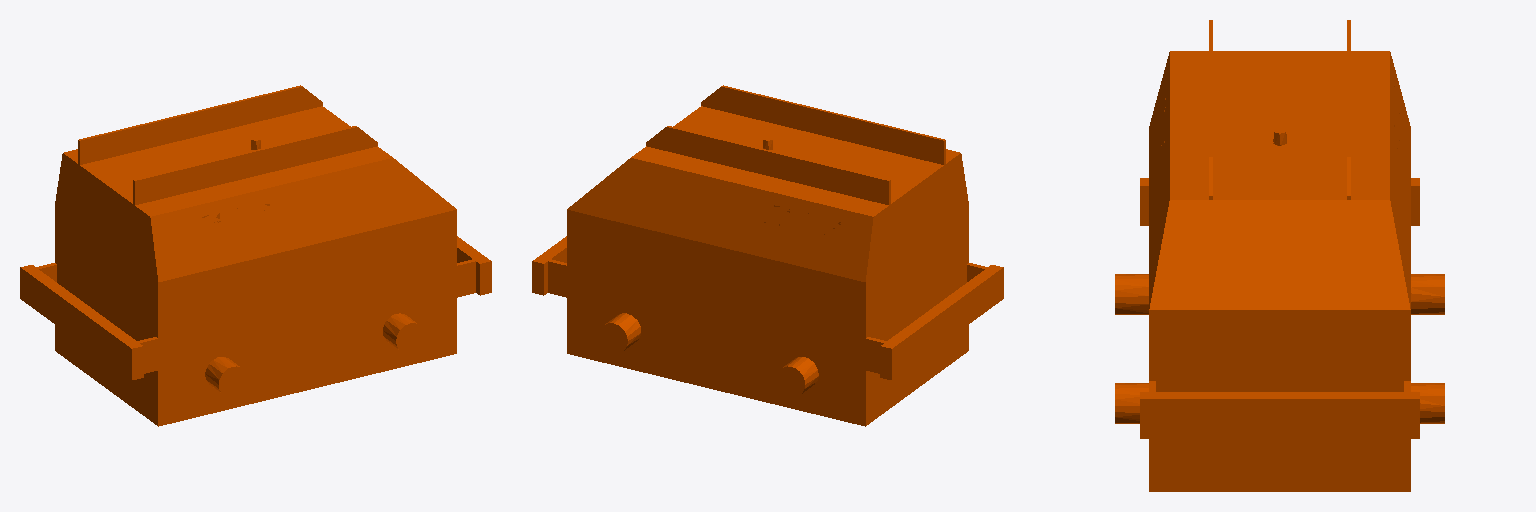
URDF robot description (atrvjr):
<?xml version="1.0" ?>
<!-- =================================================================================== -->
<!-- |    This document was autogenerated by xacro from urdf/atrvjr.urdf.xacro         | -->
<!-- |    EDITING THIS FILE BY HAND IS NOT RECOMMENDED                                 | -->
<!-- =================================================================================== -->
<robot name="atrvjr">
  <!-- aka distance between axis -->
  <link name="left_front_wheel_link">
    <inertial>
      <mass value="1"/>
      <inertia ixx="1.0" ixy="0.0" ixz="0.0" iyy="1.0" iyz="0.0" izz="1.0"/>
    </inertial>
    <collision>
      <origin rpy="0 0 0" xyz="0 0 0.0475"/>
      <geometry>
        <cylinder length="0.095" radius="0.155"/>
      </geometry>
    </collision>
  </link>
  <!-- base_link -> ${prefix}_wheel_link -->
  <joint name="left_front_wheel_joint" type="fixed">
    <parent link="center_link"/>
    <child link="left_front_wheel_link"/>
    <origin rpy="-1.570795 0 0" xyz="0.19 0.2125 0"/>
  </joint>
  <link name="left_rear_wheel_link">
    <inertial>
      <mass value="1"/>
      <inertia ixx="1.0" ixy="0.0" ixz="0.0" iyy="1.0" iyz="0.0" izz="1.0"/>
    </inertial>
    <collision>
      <origin rpy="0 0 0" xyz="0 0 0.0475"/>
      <geometry>
        <cylinder length="0.095" radius="0.155"/>
      </geometry>
    </collision>
  </link>
  <!-- base_link -> ${prefix}_wheel_link -->
  <joint name="left_rear_wheel_joint" type="fixed">
    <parent link="center_link"/>
    <child link="left_rear_wheel_link"/>
    <origin rpy="-1.570795 0 0" xyz="-0.19 0.2125 0"/>
  </joint>
  <link name="right_front_wheel_link">
    <inertial>
      <mass value="1"/>
      <inertia ixx="1.0" ixy="0.0" ixz="0.0" iyy="1.0" iyz="0.0" izz="1.0"/>
    </inertial>
    <collision>
      <origin rpy="0 0 0" xyz="0 0 0.0475"/>
      <geometry>
        <cylinder length="0.095" radius="0.155"/>
      </geometry>
    </collision>
  </link>
  <!-- base_link -> ${prefix}_wheel_link -->
  <joint name="right_front_wheel_joint" type="fixed">
    <parent link="center_link"/>
    <child link="right_front_wheel_link"/>
    <origin rpy="1.570795 0 0" xyz="0.19 -0.2125 0"/>
  </joint>
  <link name="right_rear_wheel_link">
    <inertial>
      <mass value="1"/>
      <inertia ixx="1.0" ixy="0.0" ixz="0.0" iyy="1.0" iyz="0.0" izz="1.0"/>
    </inertial>
    <collision>
      <origin rpy="0 0 0" xyz="0 0 0.0475"/>
      <geometry>
        <cylinder length="0.095" radius="0.155"/>
      </geometry>
    </collision>
  </link>
  <!-- base_link -> ${prefix}_wheel_link -->
  <joint name="right_rear_wheel_joint" type="fixed">
    <parent link="center_link"/>
    <child link="right_rear_wheel_link"/>
    <origin rpy="1.570795 0 0" xyz="-0.19 -0.2125 0"/>
  </joint>
  <!-- links -->
  <!-- base_link -->
  <!-- The frame of the floor directly below the center_link and -->
  <!-- is needed for the navigation stack to work properly -->
  <link name="base_link"/>
  <!-- center_link -->
  <!-- The link that is the origin of all of the components of the -->
  <!-- robot and should also represent the main chassis via inertial, -->
  <!-- visual, and geometry elements of the link -->
  <link name="center_link">
    <inertial>
      <mass value="50"/>
      <inertia ixx="1.0" ixy="0.0" ixz="0.0" iyy="1.0" iyz="0.0" izz="1.0"/>
    </inertial>
    <visual>
      <geometry>
        <mesh filename="./meshes/atrvjr_chassis_no_wheels_3.obj"/>
        <!-- <mesh filename="./meshes/chassis.obj"/> -->
      </geometry>
    </visual>
    <collision>
      <origin rpy="0 0 0" xyz="0 0 0.10999999999999999"/>
      <geometry>
        <box size="0.64 0.385 0.42"/>
      </geometry>
    </collision>
  </link>
  <!-- base_link -> center_link -->
  <joint name="base_link_joint" type="fixed">
    <origin rpy="0 0 0" xyz="0 0 0.1525"/>
    <parent link="base_link"/>
    <child link="center_link"/>
  </joint>
  <!-- Crossbow Imu Link -->
  <link name="cbimu_frame"/>
  <joint name="base_cbimu_joint" type="fixed">
    <origin rpy="0 3.14159 0" xyz="0 0 0.267"/>
    <parent link="center_link"/>
    <child link="cbimu_frame"/>
  </joint>
  <!-- MPU Imu Link -->
  <link name="mpuimu_frame"/>
  <joint name="base_mpuimu_joint" type="fixed">
    <origin rpy="0 0 1.570795" xyz="0 0 0.35"/>
    <parent link="center_link"/>
    <child link="mpuimu_frame"/>
  </joint>
  <!-- Arm Link -->
  <link name="arm_base_frame"/>
  <joint name="$to_{armConnectionFrame}_joint" type="fixed">
    <origin rpy="0 0 0" xyz="0 0 0.38"/>
    <parent link="center_link"/>
    <child link="arm_base_frame"/>
  </joint>
  <!-- Hokuyo Link -->
  <link name="lrf_frame"/>
  <joint name="lrf_joint" type="fixed">
    <origin rpy="0 0 0" xyz="0.2 0 0.35"/>
    <parent link="center_link"/>
    <child link="lrf_frame"/>
  </joint>
  <!-- Hokuyo Link -->
  <link name="novatel"/>
  <joint name="novatel_joint" type="fixed">
    <origin rpy="0 0 0" xyz="-0.15 0.1 0.4"/>
    <parent link="center_link"/>
    <child link="novatel"/>
  </joint>
</robot>

--- Facts derived from the render (not from the file) ---
3 views of the same robot in one strip: view 1: azimuth 30°, elevation 25°; view 2: azimuth 150°, elevation 25°; view 3: azimuth 270°, elevation 25° (orthographic).
Robot: atrvjr — 11 links, 10 joints (10 fixed); root link base_link; default pose: every joint at zero.
Links seen in each view (by area): view 1: center_link; view 2: center_link; view 3: center_link.
Link boxes in pixels (x1,y1,x2,y2): center_link: (20,85,491,426); center_link: (532,85,1003,426); center_link: (1115,20,1444,491).
Bounding box of the posed robot: 0.77 × 0.485 × 0.467 m (x, y, z).
1 mesh visuals loaded from 1 distinct referenced files (1 OBJ).
